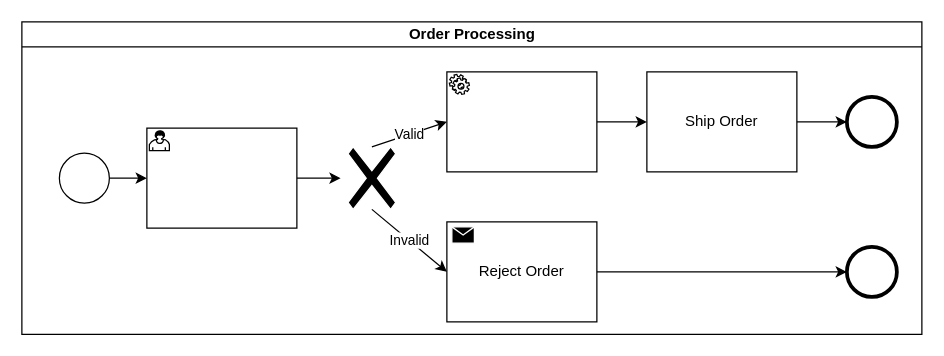
Image size: 944x356. Some labels were removed from this diagram. The centre of each missing label's shape, as x and y in pixels:
"Process Payment" belongs at [521,121].
"Receive Order" belongs at [221,177].
